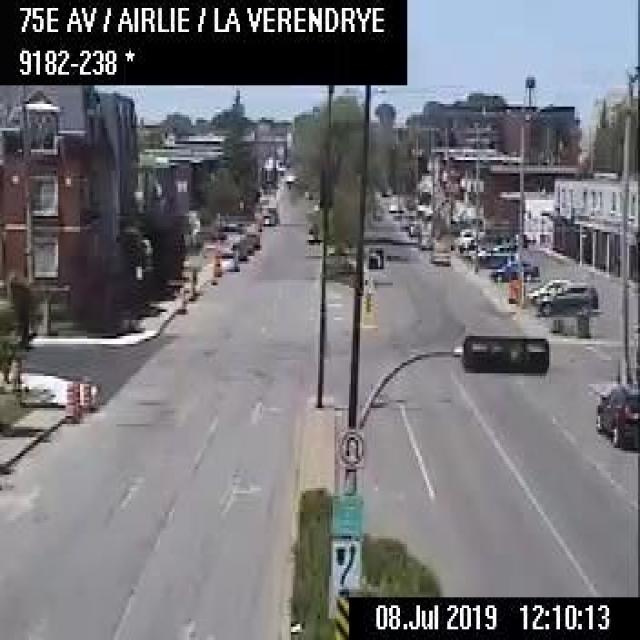construction: (176, 283, 188, 312), (64, 377, 72, 419), (72, 378, 80, 420), (507, 274, 517, 302), (80, 374, 88, 408), (90, 379, 99, 408), (211, 250, 220, 274)
pedestrian: (7, 344, 21, 392), (0, 337, 9, 383)
vehicle: (593, 379, 638, 448), (532, 282, 596, 314), (487, 255, 536, 279), (524, 276, 568, 298), (216, 248, 236, 270), (430, 241, 449, 264), (230, 236, 246, 260), (243, 226, 260, 247), (416, 226, 432, 247), (407, 216, 421, 234), (386, 194, 398, 210)
